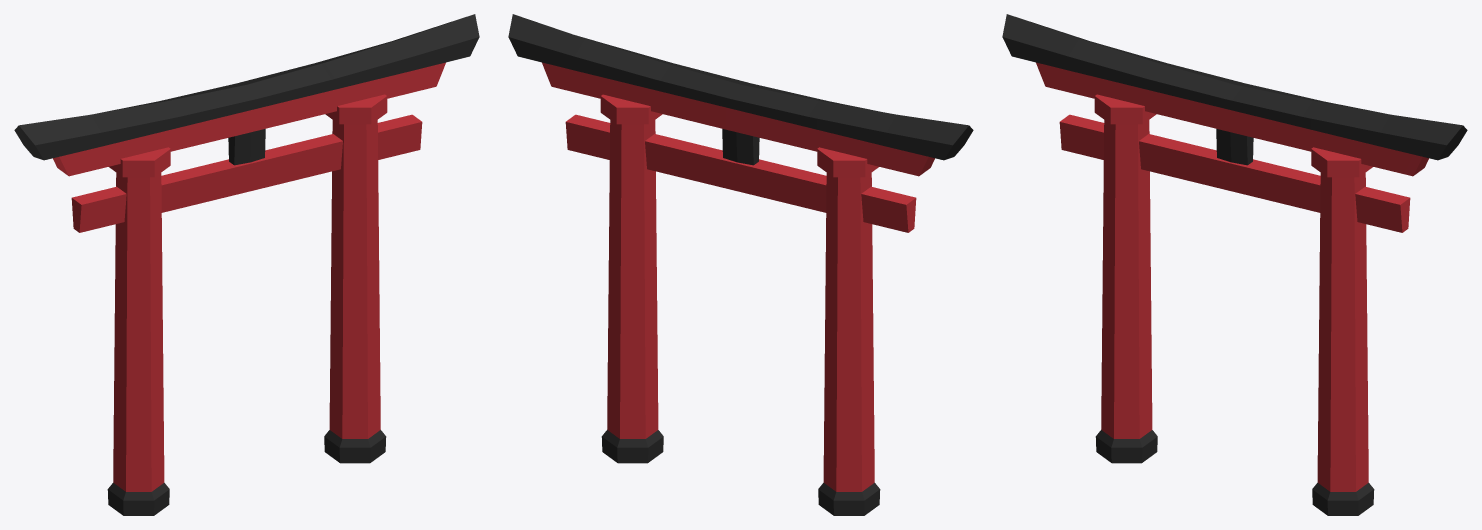
The model's file is japan_gate-red-japan.fbx.
3 views of the same model, side by side, from view 1: azimuth 30°, elevation 25°; view 2: azimuth 150°, elevation 25°; view 3: azimuth 330°, elevation 25° (orthographic).
Parts seen in each view (by area): view 1: japan_gate_red_japan; view 2: japan_gate_red_japan; view 3: japan_gate_red_japan.
Boxes of the visible parts, x1=… form: japan_gate_red_japan: x1=14, y1=14, x2=479, y2=515; japan_gate_red_japan: x1=508, y1=14, x2=973, y2=515; japan_gate_red_japan: x1=1002, y1=14, x2=1467, y2=515.
Bounding box in the file's own units: 200 × 171 × 24.29.
